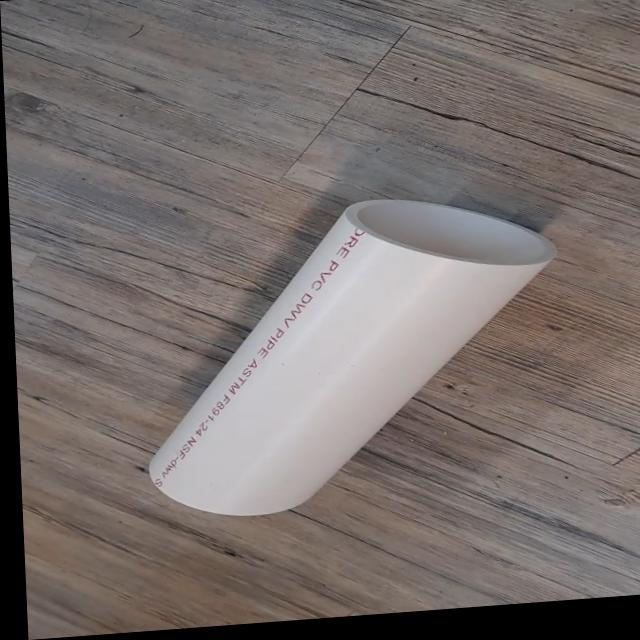CORAL: (131, 180, 565, 527)
